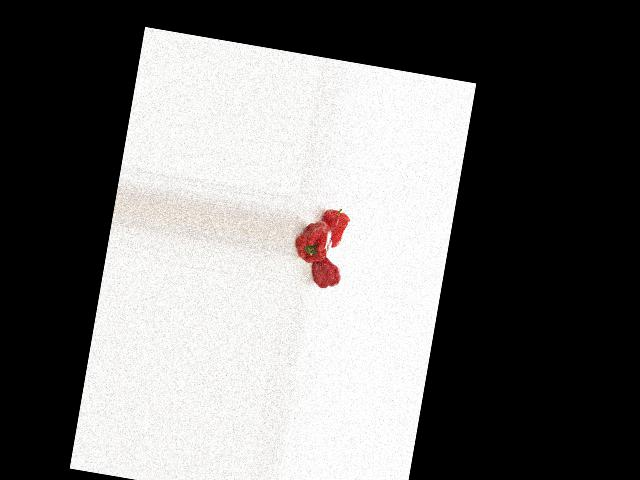bell_pepper: (307, 257, 343, 292)
